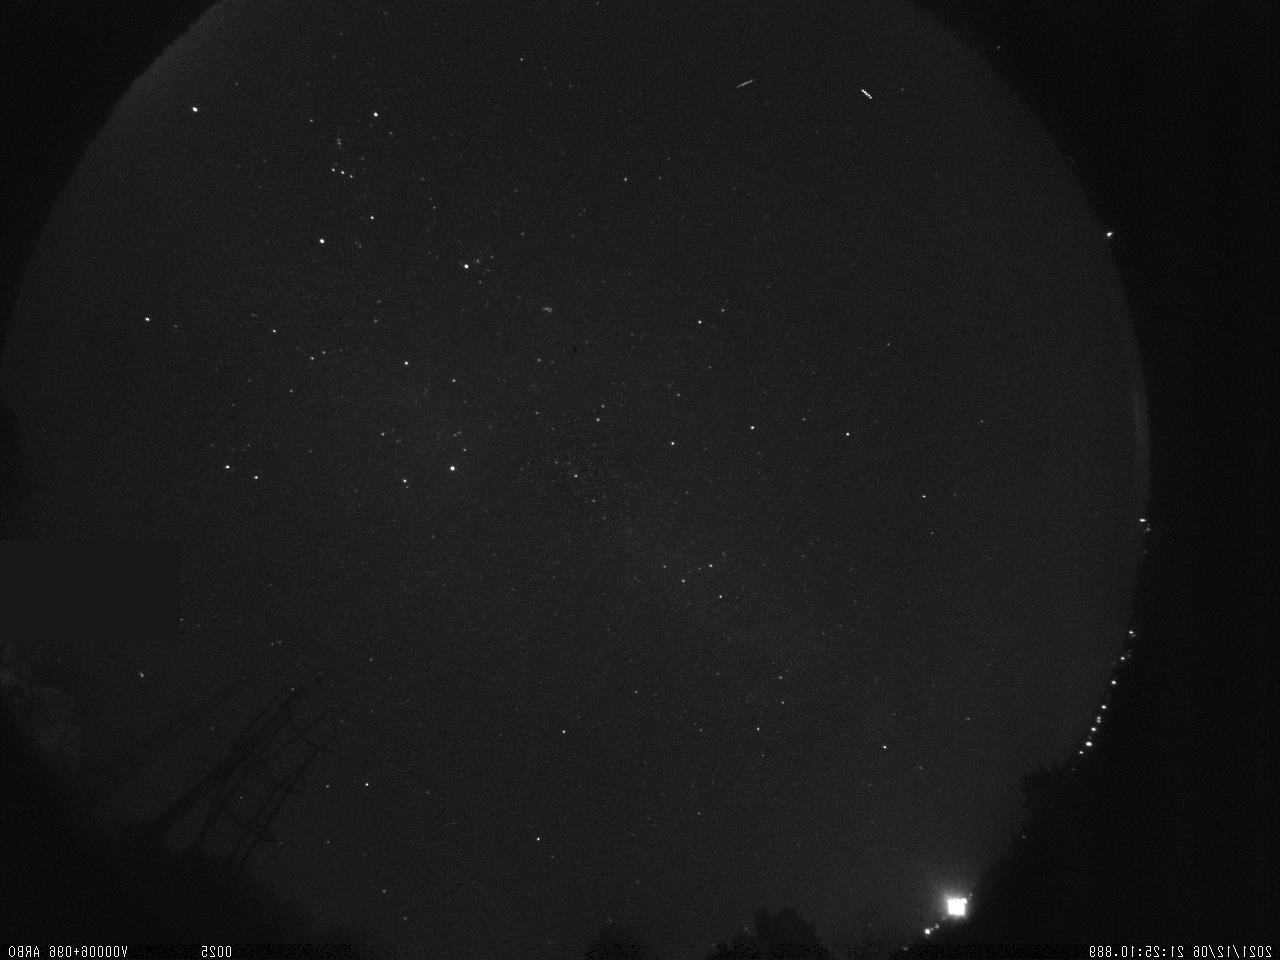meteor: (726, 70, 769, 100)
